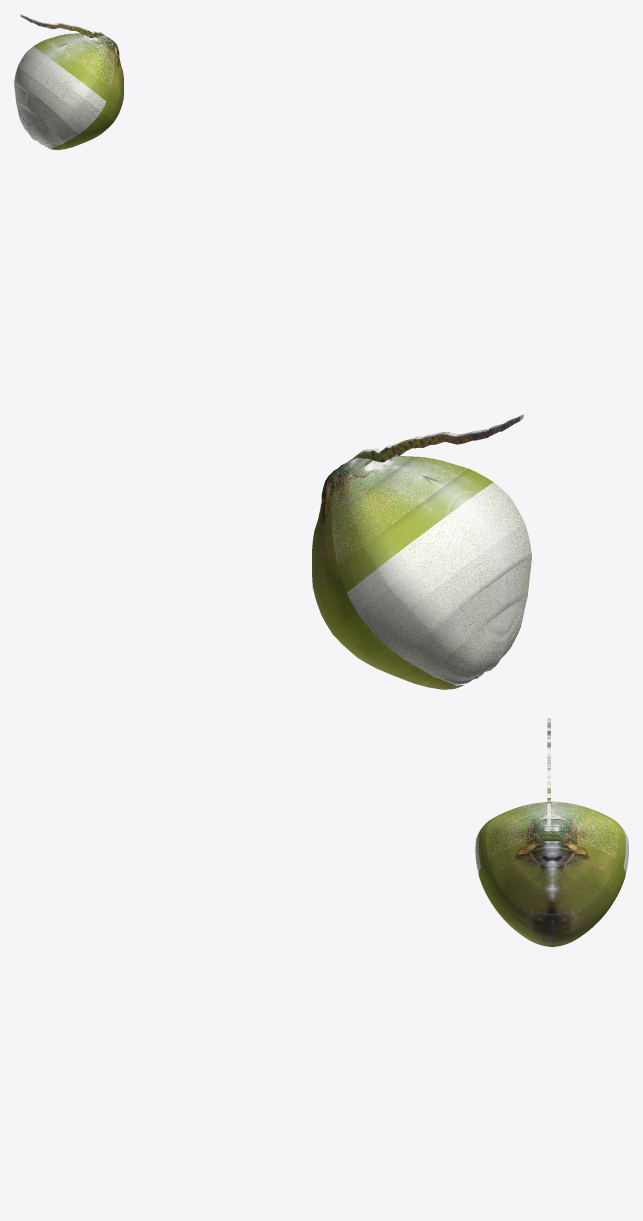
The model's file is coconut.dae.
3 views of the same model, one above another, from view 1: azimuth 30°, elevation 25°; view 2: azimuth 150°, elevation 25°; view 3: azimuth 270°, elevation 25° (orthographic). The views are drawn at different scales.
Parts seen in each view (by area): view 1: Coconut (×4); view 2: Coconut (×4); view 3: Coconut (×3).
Boxes of the visible parts, x1,y1,x2,y2 form: Coconut (×4): (14, 14, 123, 150); Coconut (×4): (312, 414, 531, 689); Coconut (×3): (475, 801, 628, 947).
Bounding box in the file's own units: 404 × 397 × 159.
2 materials, 1 textured.
